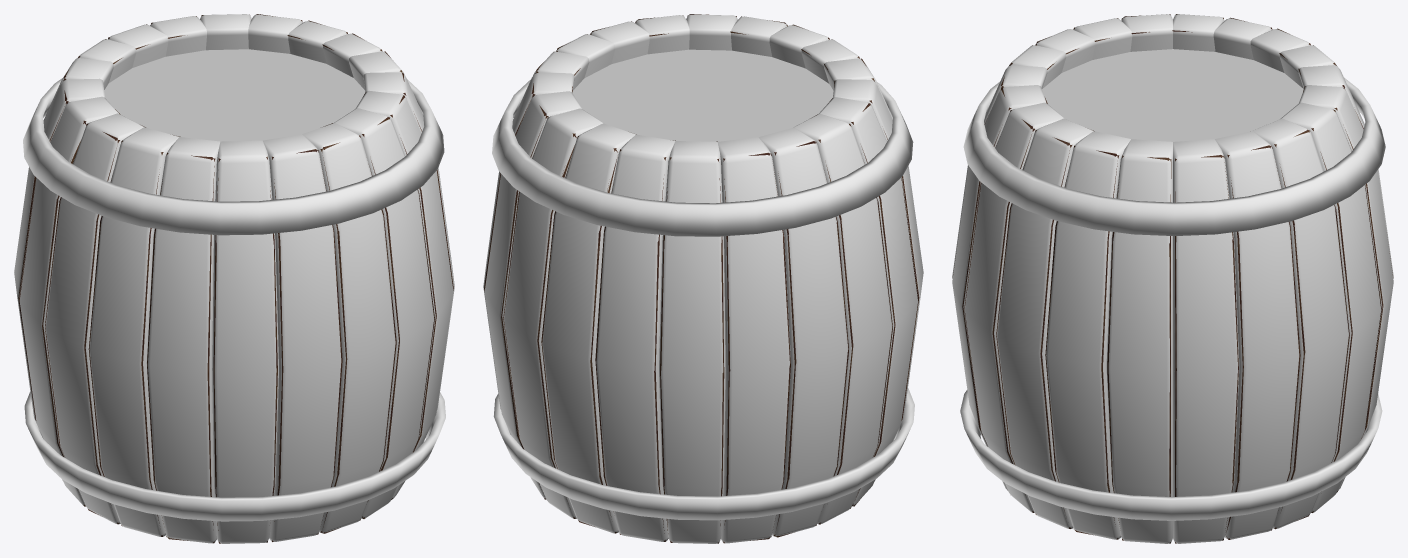
Rendered from Barrel.fbx.
3 renders of one model, left to right at view 1: azimuth 30°, elevation 25°; view 2: azimuth 150°, elevation 25°; view 3: azimuth 270°, elevation 25°, orthographic.
Visible parts, largest first — view 1: barrel hp, Circle.002, Circle.001, Circle, barrel lp; view 2: barrel hp, Circle.002, Circle.001, Circle, barrel lp; view 3: barrel hp, Circle.002, Circle.001, Circle, barrel lp.
Part boxes in pixels (box(x1,y1,x2,y2)): barrel hp: box(14, 14, 454, 543); Circle.002: box(104, 49, 365, 141); Circle.001: box(23, 78, 444, 235); Circle: box(24, 392, 445, 521); barrel lp: box(18, 14, 453, 543); barrel hp: box(483, 14, 923, 543); Circle.002: box(572, 49, 833, 141); Circle.001: box(492, 79, 913, 236); Circle: box(493, 388, 914, 520); barrel lp: box(484, 14, 919, 543); barrel hp: box(952, 14, 1393, 543); Circle.002: box(1042, 49, 1303, 141); Circle.001: box(963, 77, 1385, 236); Circle: box(960, 390, 1382, 520); barrel lp: box(952, 14, 1393, 543).
Bounding box in the file's own units: 267 × 259 × 267.
